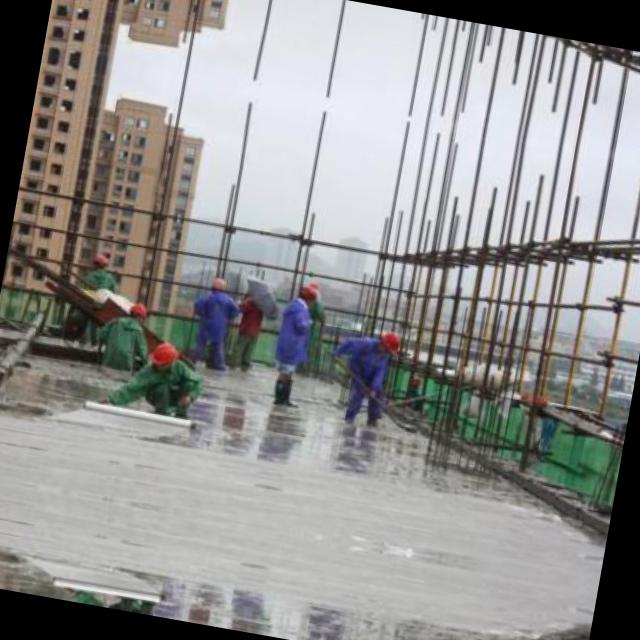helmet: (141, 335, 187, 378), (370, 321, 403, 358), (121, 297, 152, 331), (291, 280, 318, 308), (87, 248, 112, 271), (206, 274, 228, 294)
